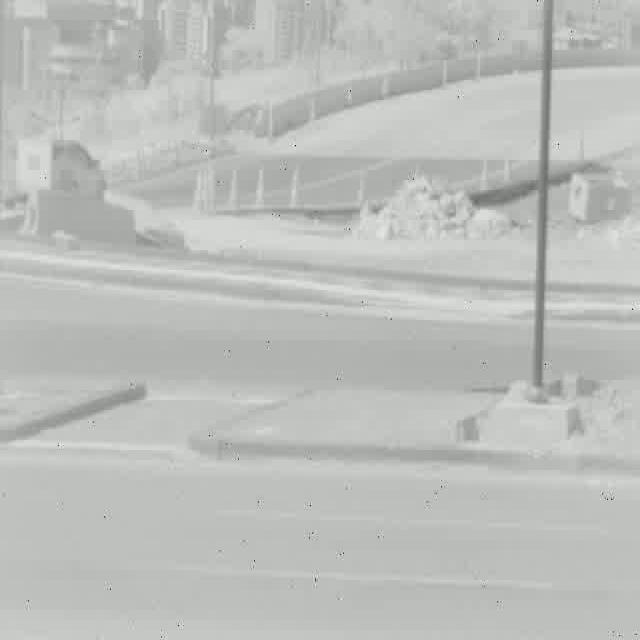Car: (0, 139, 105, 206)
